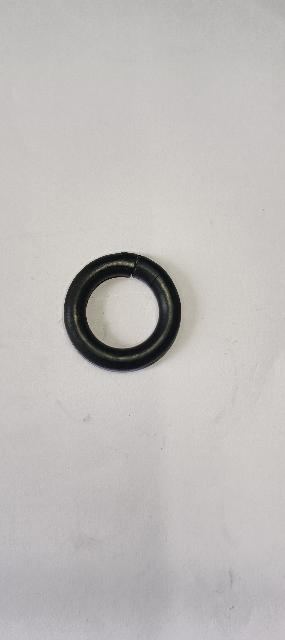4: (151, 267, 171, 289)
crack: (121, 249, 145, 287)
